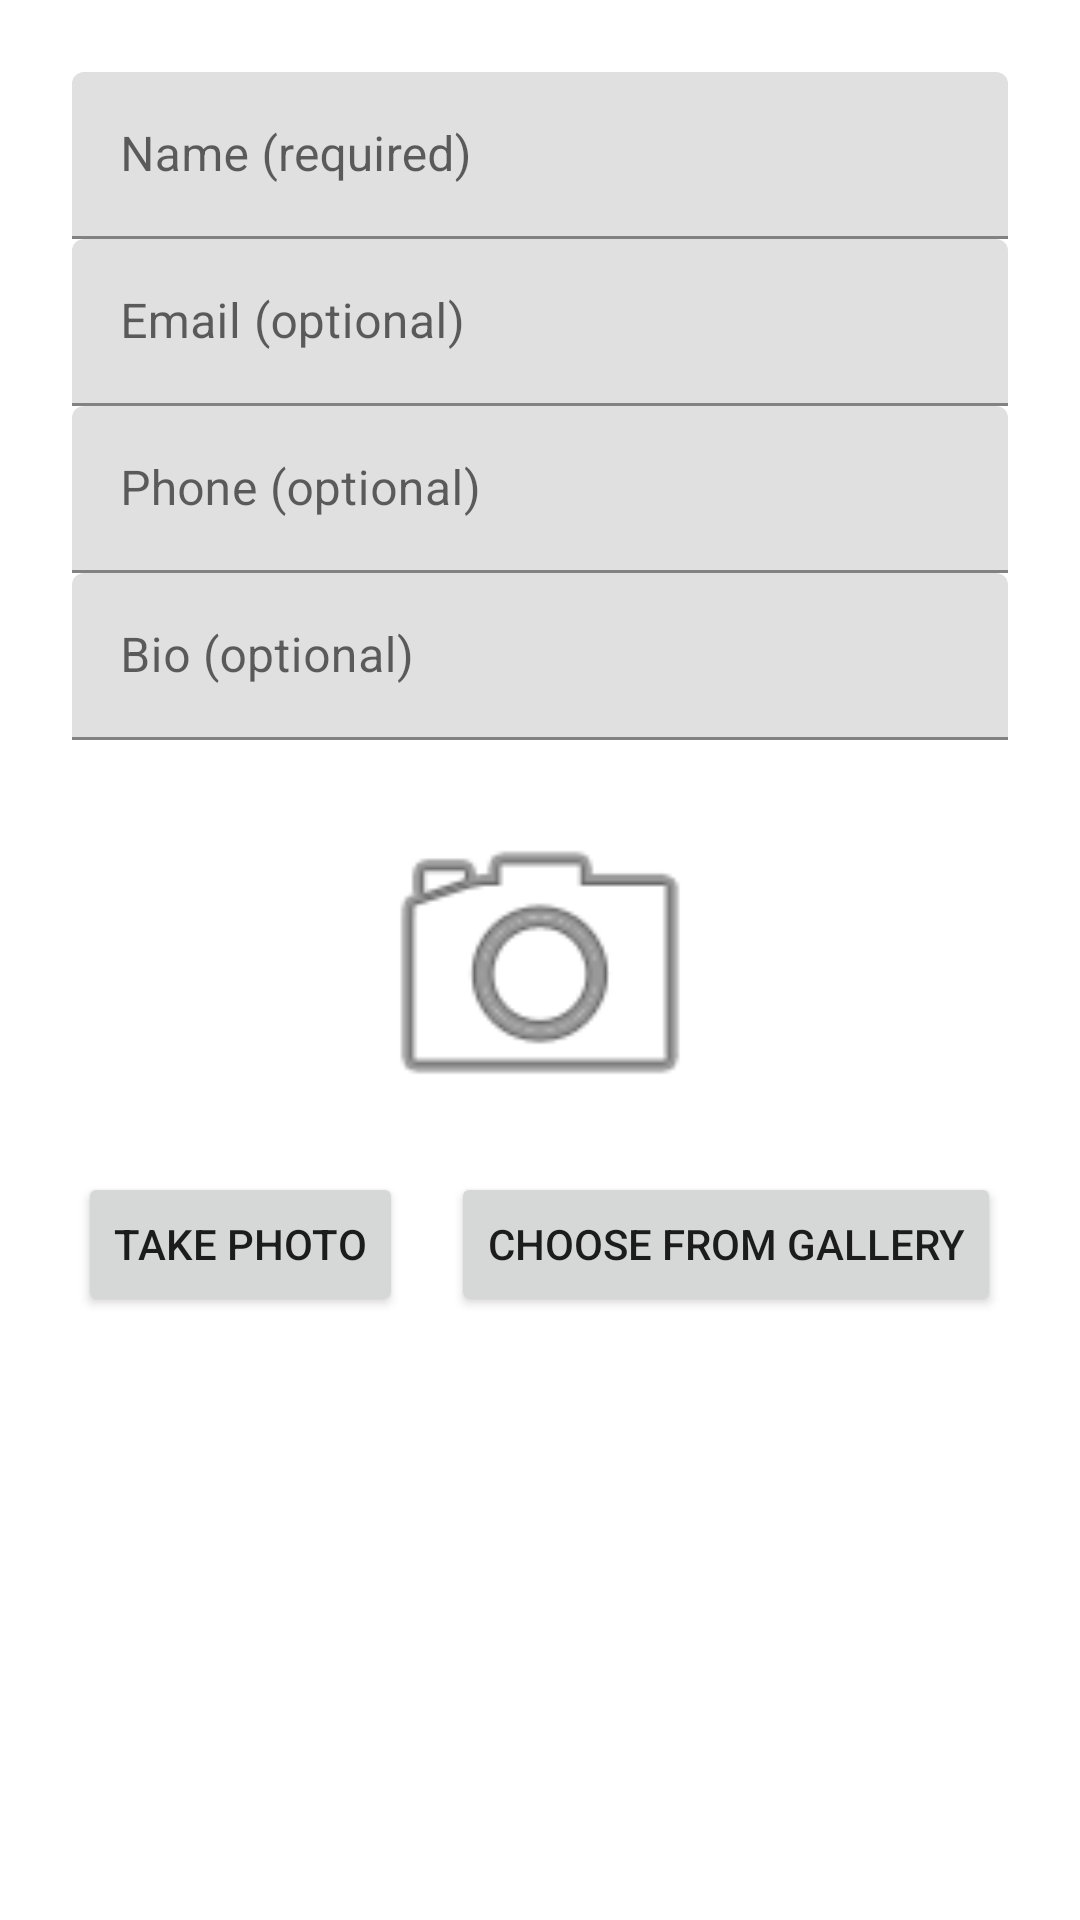

Named icons in this screenshot (1080×1920) and their bounding boxes, [x1=x1, y1=y1, x2=x2, y2=y2]:
camera: [x1=401, y1=851, x2=679, y2=1073]
